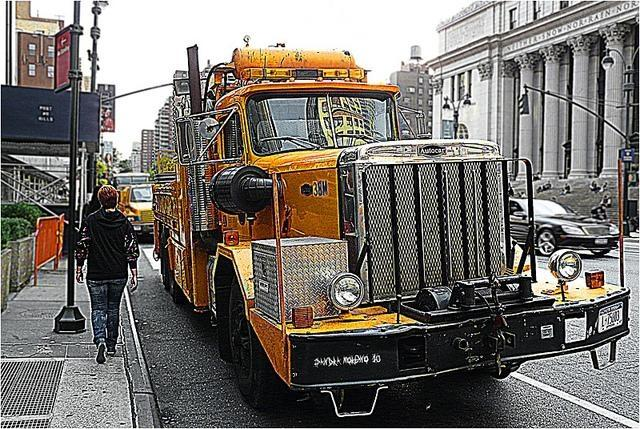car: (512, 196, 619, 258)
truck: (151, 36, 631, 424), (118, 184, 154, 232), (113, 172, 152, 194)
